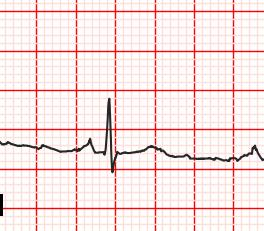ST Depression: (100, 147, 123, 175)
